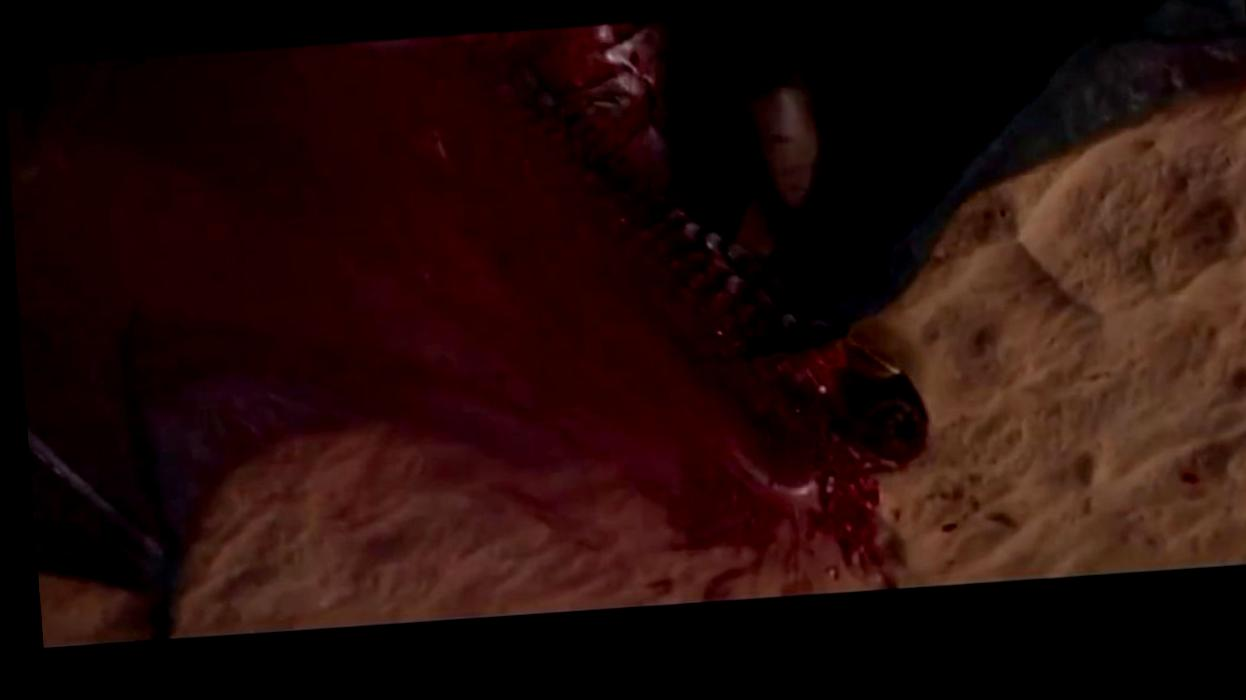Fire: (3, 29, 924, 607), (935, 487, 974, 542), (978, 521, 1012, 541), (1170, 477, 1191, 500)
